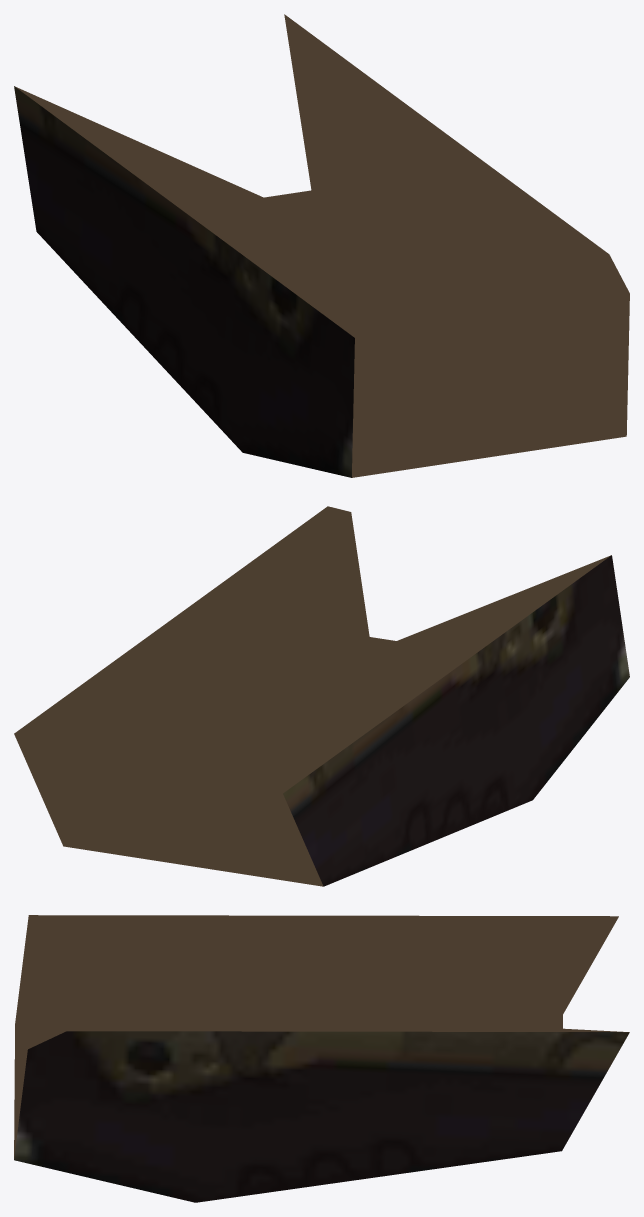
File: gun35_reload.obj
3 views of the same model, one above another, from view 1: azimuth 30°, elevation 25°; view 2: azimuth 150°, elevation 25°; view 3: azimuth 270°, elevation 25° (orthographic). The views are drawn at different scales.
Parts seen in each view (by area): view 1: gun35_reload; view 2: gun35_reload; view 3: gun35_reload.
Part boxes in pixels (x1,y1,x2,y2): gun35_reload: (14, 14, 629, 477); gun35_reload: (14, 506, 629, 886); gun35_reload: (14, 915, 629, 1202).
Size of the model in its own units: 0.1197 by 0.081 by 0.2531.
Materials: 1 (1 with a texture image).
